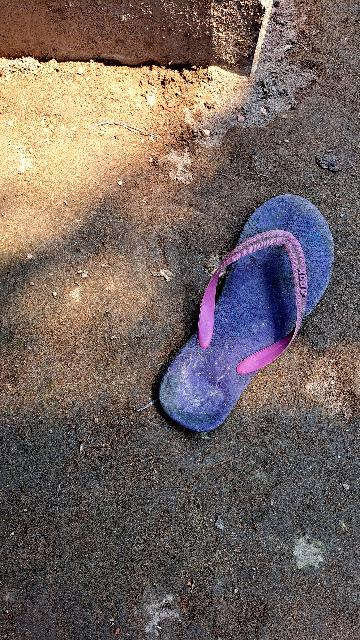sandal: (130, 172, 360, 468)
